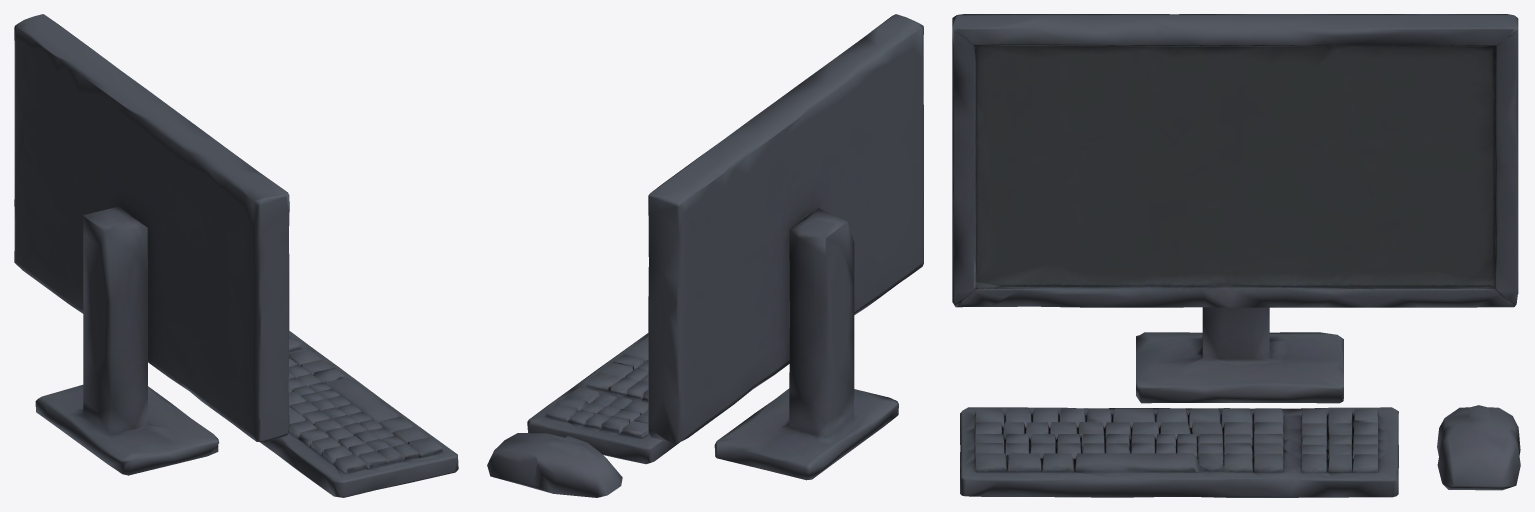
Rendered from flatPc.glb.
3 views of the same model, side by side, from view 1: azimuth 30°, elevation 25°; view 2: azimuth 150°, elevation 25°; view 3: azimuth 270°, elevation 25° (orthographic). The views are drawn at different scales.
Visible parts, largest first — view 1: tripo_node_1545048d-6c54-4dbd-a1b8-78a4349709b9; view 2: tripo_node_1545048d-6c54-4dbd-a1b8-78a4349709b9; view 3: tripo_node_1545048d-6c54-4dbd-a1b8-78a4349709b9.
Part boxes in pixels (left/top/right/bottom): tripo_node_1545048d-6c54-4dbd-a1b8-78a4349709b9: left=14, top=14, right=458, bottom=497; tripo_node_1545048d-6c54-4dbd-a1b8-78a4349709b9: left=487, top=14, right=923, bottom=497; tripo_node_1545048d-6c54-4dbd-a1b8-78a4349709b9: left=952, top=14, right=1520, bottom=497.
Size of the model in its own units: 0.608 by 0.7236 by 1.
1 material, 1 textured.
